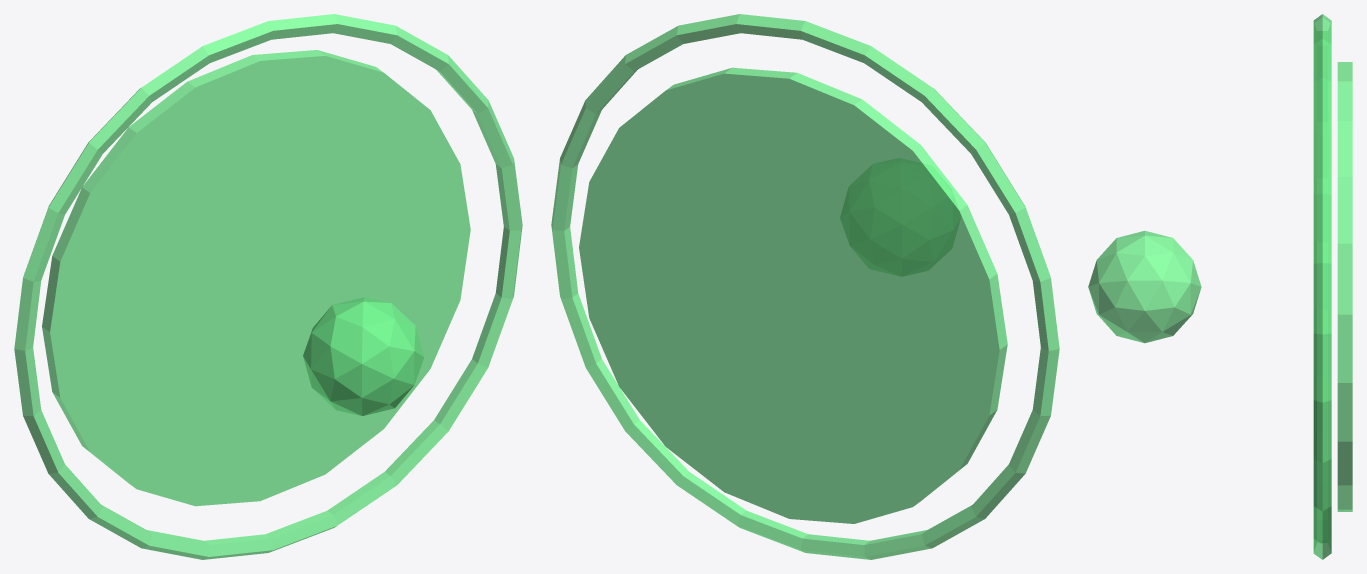
The model's file is rescue_pet_cage.glb.
3 renders of one model, left to right at view 1: azimuth 30°, elevation 25°; view 2: azimuth 150°, elevation 25°; view 3: azimuth 270°, elevation 25°, orthographic. The views are drawn at different scales.
Visible parts, largest first — view 1: summon_disc, summon_ring, summon_core; view 2: summon_disc, summon_ring; view 3: summon_ring, summon_core, summon_disc.
Part boxes in pixels (bbox=[...]): summon_disc: bbox=[42, 50, 470, 506]; summon_ring: bbox=[14, 14, 522, 559]; summon_core: bbox=[303, 297, 424, 416]; summon_disc: bbox=[579, 67, 1007, 523]; summon_ring: bbox=[551, 14, 1059, 559]; summon_ring: bbox=[1313, 14, 1331, 559]; summon_core: bbox=[1088, 230, 1201, 343]; summon_disc: bbox=[1337, 62, 1352, 511].
Bounding box in the file's own units: 1.45 × 1.45 × 0.7.
